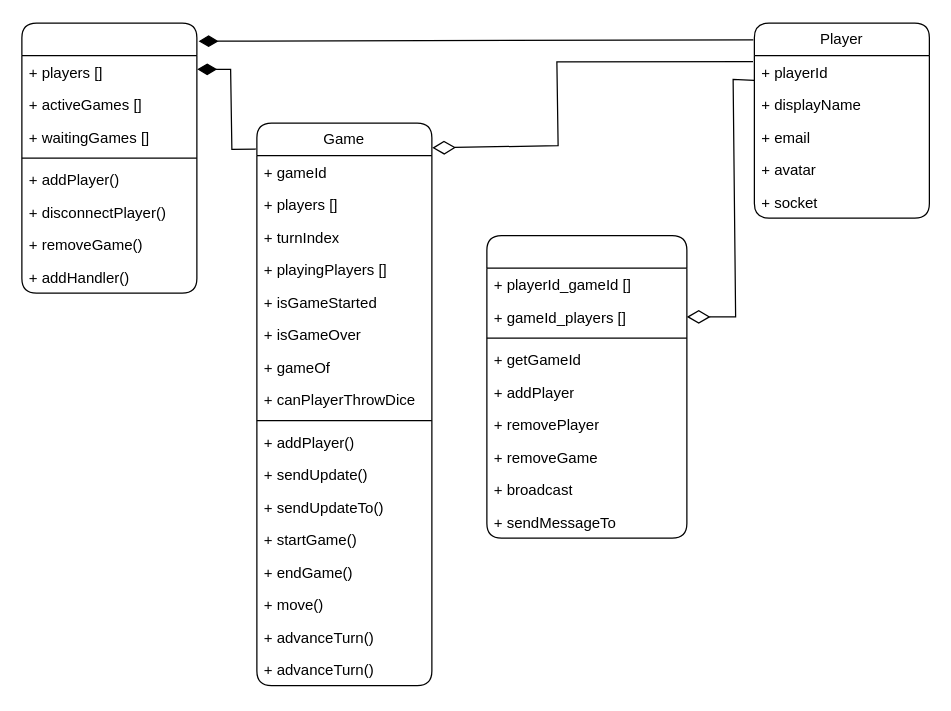
Image size: 951x711. Some labels were removed from this diagram. The box of each missing label's shape, as (x1, y1, x2, y2) in pixels:
Game Manager: (21, 22, 197, 293)
Socket manager: (486, 234, 687, 538)
